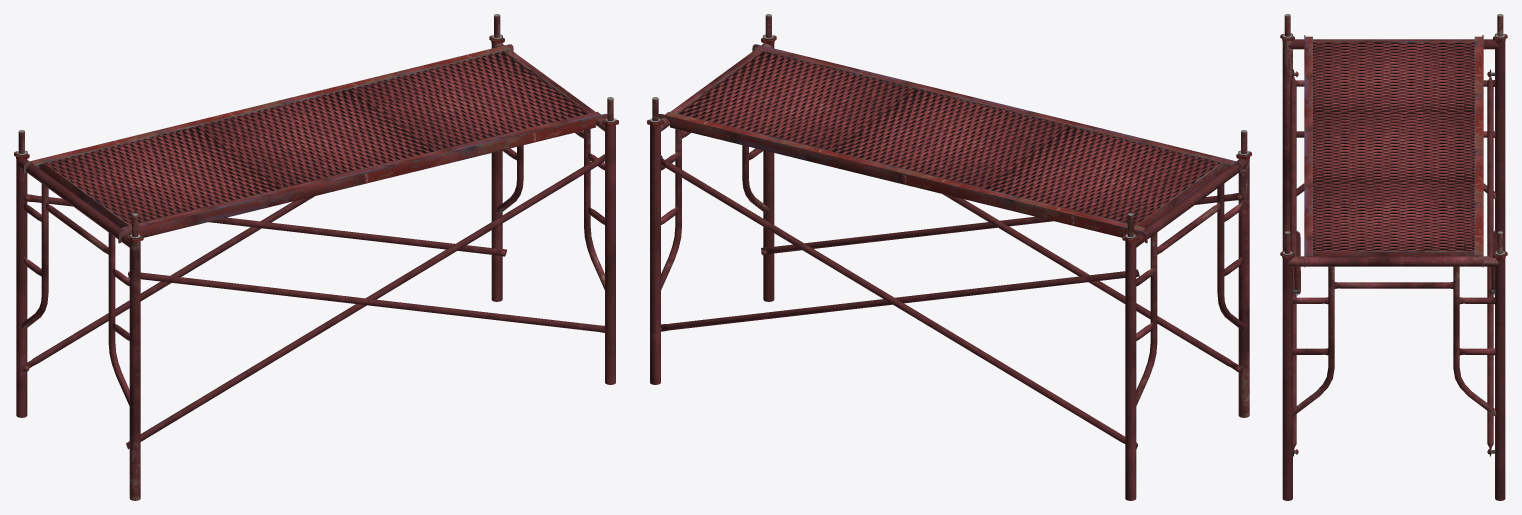
File: scaffolding-1.FBX
The picture shows the model from 3 angles, left to right: view 1: azimuth 30°, elevation 25°; view 2: azimuth 150°, elevation 25°; view 3: azimuth 270°, elevation 25°; orthographic projection. The views are drawn at different scales.
Visible parts, largest first — view 1: scaffolding_LOD0; view 2: scaffolding_LOD0; view 3: scaffolding_LOD0.
Boxes of the visible parts, bbox=[...] form: scaffolding_LOD0: bbox=[14, 14, 618, 500]; scaffolding_LOD0: bbox=[647, 14, 1251, 500]; scaffolding_LOD0: bbox=[1280, 14, 1507, 500].
Size of what is drawn, in the model's own units: 256 by 142 by 110.
